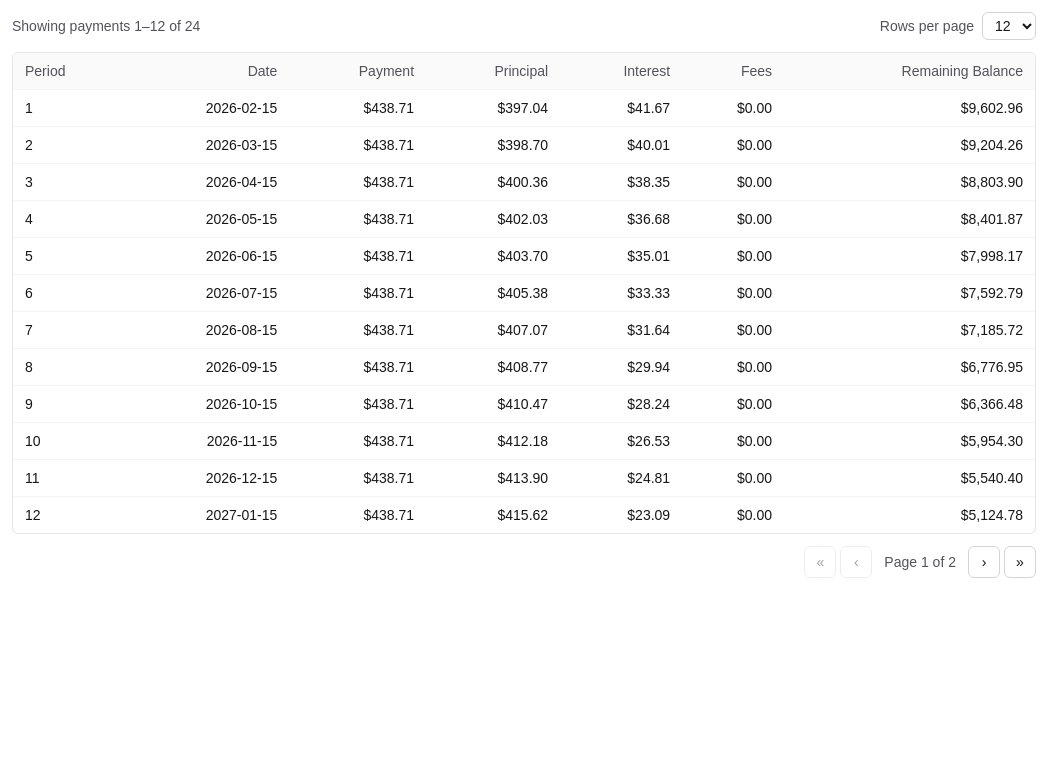
Scenario: AmortizationTable (REQ-FUNC-AN01) › paginates 12 rows at a time
expect the message reads "Showing payments 1–12 of 24": met, box [12, 18, 200, 34]
expect the button named "Previous page" is disabled: met, box [840, 546, 872, 578]
Step 1. Click the button named "Next page" → (984, 562), box [968, 546, 1000, 578]
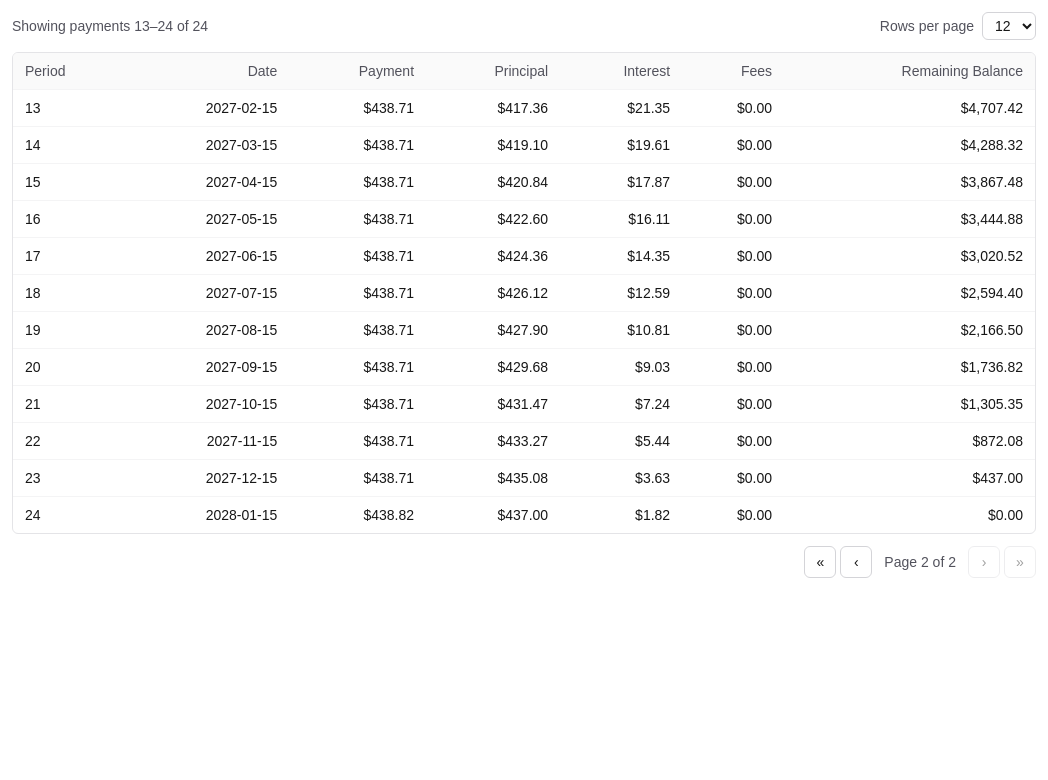
expect the message reads "Showing payments 13–24 of 24": met, box [12, 18, 208, 34]
expect the column heading "13" is shown: met, box [13, 90, 124, 126]
Step 2. Click the button named "First page" → (820, 562), box [804, 546, 836, 578]
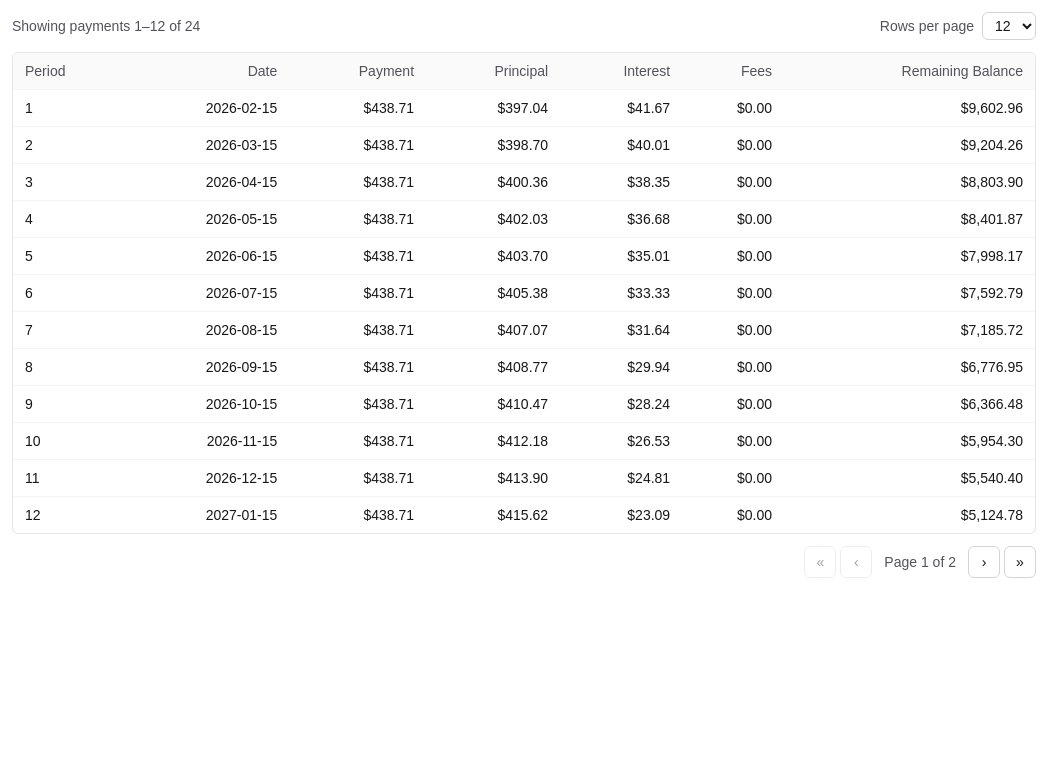
expect the message reads "Showing payments 1–12 of 24": met, box [12, 18, 200, 34]
